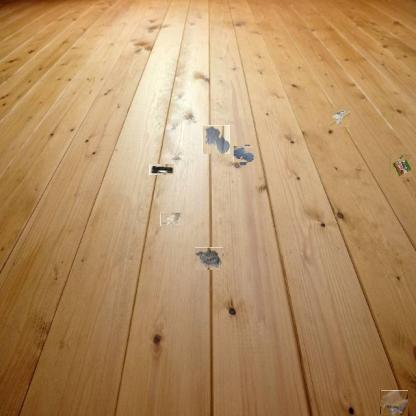dirty: (380, 390, 408, 415), (196, 247, 224, 270), (390, 153, 412, 177), (330, 107, 350, 127), (149, 163, 174, 175), (160, 212, 181, 226)
liquid: (202, 125, 230, 154), (235, 145, 254, 164)
